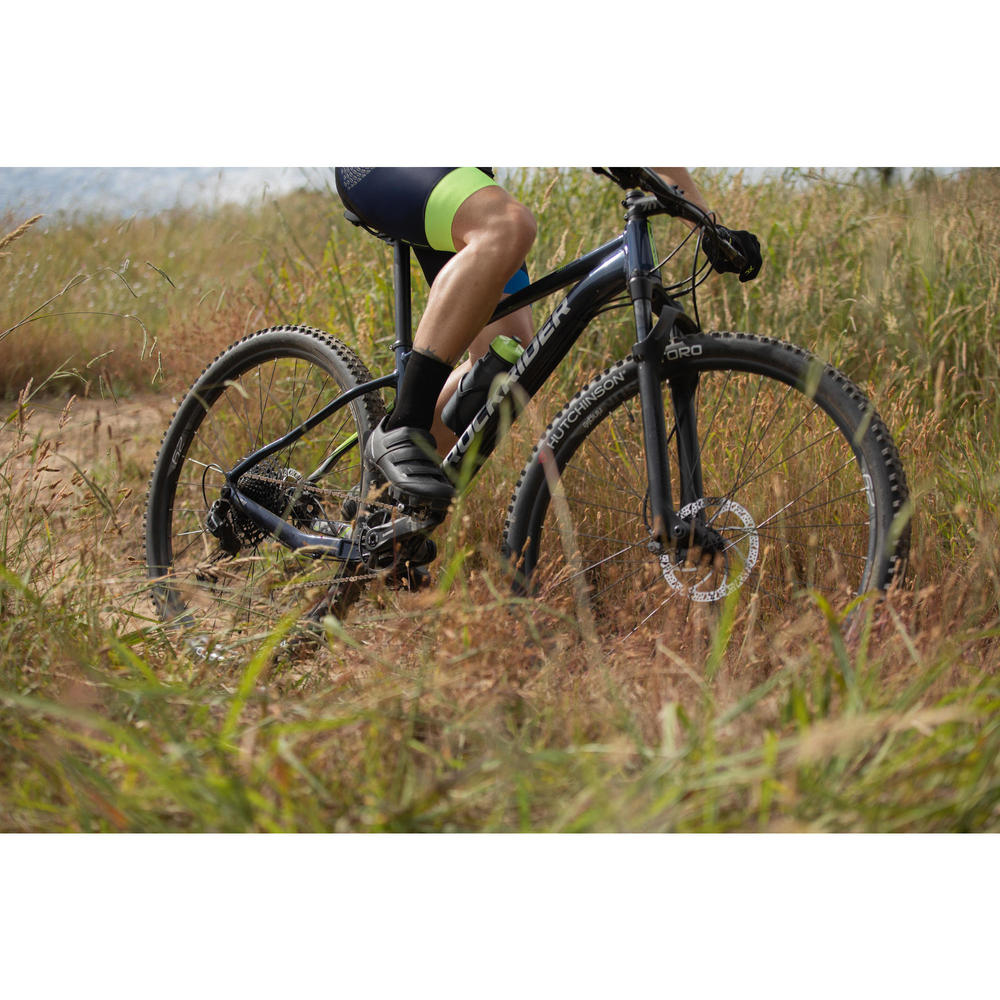MountainBike: (135, 178, 917, 653)
